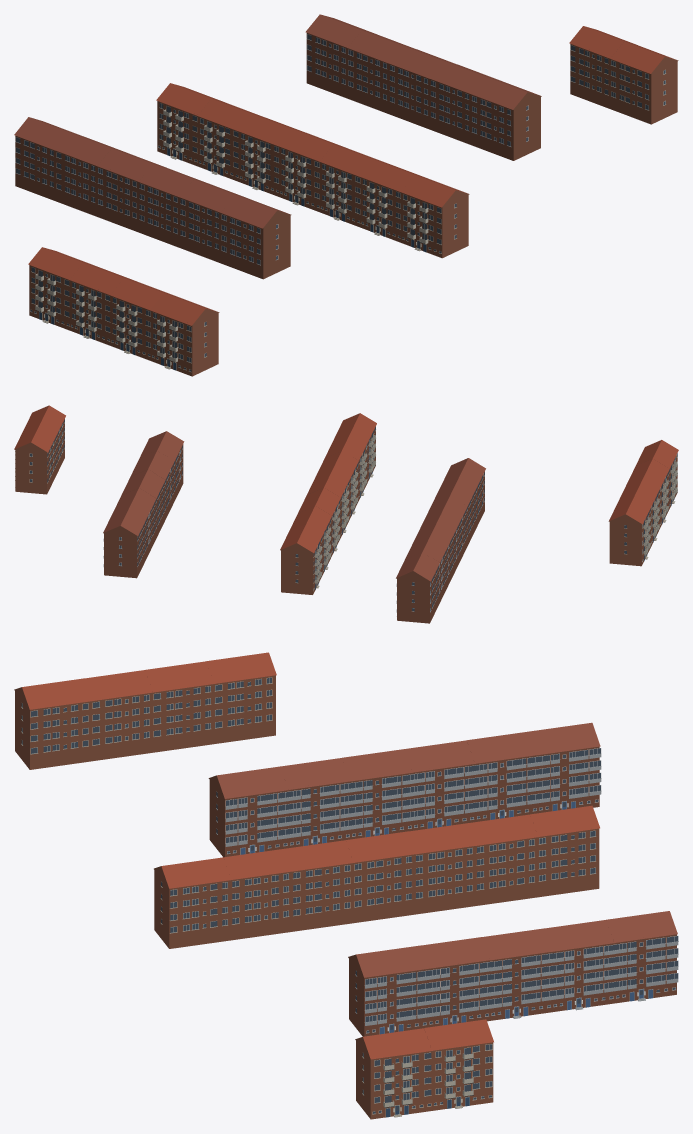
Rendered from sonderbuur-baked-1.glb.
The picture shows the model from 3 angles, top to bottom: view 1: azimuth 30°, elevation 25°; view 2: azimuth 150°, elevation 25°; view 3: azimuth 270°, elevation 25°; orthographic projection. The views are drawn at different scales.
Visible parts, largest first — view 1: nw-portiek-brick-pitched-0363100012086137, nw-portiek-brick-pitched-0363100012063732, nw-portiek-brick-pitched-0363100012070899, nw-portiek-brick-pitched-0363100012127297, nw-portiek-brick-pitched-0363100012082757, nw-portiek-brick-pitched-0363100012145200, nw-portiek-brick-pitched-0363100012063448, nw-portiek-brick-pitched-0363100012144762, nw-portiek-brick-pitched-0363100012073058, nw-portiek-brick-pitched-0363100012125614, nw-portiek-brick-pitched-0363100012150871, nw-portiek-brick-pitched-0363100012126865 (+12 smaller); view 2: nw-portiek-brick-pitched-0363100012063448, nw-portiek-brick-pitched-0363100012126865, nw-portiek-brick-pitched-0363100012146294, nw-portiek-brick-pitched-0363100012098636, nw-portiek-brick-pitched-0363100012074491, nw-portiek-brick-pitched-0363100012086137, nw-portiek-brick-pitched-0363100012063732, nw-portiek-brick-pitched-0363100012145200, nw-portiek-brick-pitched-0363100012144762, nw-portiek-brick-pitched-0363100012150871, nw-portiek-brick-pitched-0363100012073058, nw-portiek-brick-pitched-0363100012125614 (+12 smaller); view 3: nw-portiek-brick-pitched-0363100012063732, nw-portiek-brick-pitched-0363100012086137, nw-portiek-brick-pitched-0363100012070899, nw-portiek-brick-pitched-0363100012127297, nw-portiek-brick-pitched-0363100012082757, nw-portiek-brick-pitched-0363100012063448, nw-portiek-brick-pitched-0363100012150871, nw-portiek-brick-pitched-0363100012151348, nw-portiek-brick-pitched-0363100012145200, nw-portiek-brick-pitched-0363100012144762, nw-portiek-brick-pitched-0363100012075965, nw-portiek-brick-pitched-0363100012126028 (+12 smaller).
Part boxes in pixels (x1,y1,x2,y2): nw-portiek-brick-pitched-0363100012086137: (471,76,541,160); nw-portiek-brick-pitched-0363100012063732: (221,194,291,279); nw-portiek-brick-pitched-0363100012070899: (150,293,219,376); nw-portiek-brick-pitched-0363100012127297: (401,175,469,258); nw-portiek-brick-pitched-0363100012082757: (610,41,678,124); nw-portiek-brick-pitched-0363100012145200: (55,132,124,216); nw-portiek-brick-pitched-0363100012063448: (305,14,375,98); nw-portiek-brick-pitched-0363100012144762: (429,61,498,145); nw-portiek-brick-pitched-0363100012073058: (97,148,166,232); nw-portiek-brick-pitched-0363100012125614: (179,179,247,263); nw-portiek-brick-pitched-0363100012150871: (388,45,455,129); nw-portiek-brick-pitched-0363100012126865: (14,117,80,201); nw-portiek-brick-pitched-0363100012063448: (103,506,147,578); nw-portiek-brick-pitched-0363100012126865: (396,552,439,623); nw-portiek-brick-pitched-0363100012146294: (608,495,651,566); nw-portiek-brick-pitched-0363100012098636: (280,524,322,594); nw-portiek-brick-pitched-0363100012074491: (14,424,56,494); nw-portiek-brick-pitched-0363100012086137: (140,431,184,502); nw-portiek-brick-pitched-0363100012063732: (442,458,485,529); nw-portiek-brick-pitched-0363100012145200: (405,533,448,604); nw-portiek-brick-pitched-0363100012144762: (130,450,174,521); nw-portiek-brick-pitched-0363100012150871: (121,469,165,539); nw-portiek-brick-pitched-0363100012073058: (414,514,458,584); nw-portiek-brick-pitched-0363100012125614: (432,477,476,547); nw-portiek-brick-pitched-0363100012063732: (208,766,289,857); nw-portiek-brick-pitched-0363100012086137: (348,945,429,1036); nw-portiek-brick-pitched-0363100012070899: (14,678,92,769); nw-portiek-brick-pitched-0363100012127297: (154,857,231,948); nw-portiek-brick-pitched-0363100012082757: (355,1028,432,1119); nw-portiek-brick-pitched-0363100012063448: (606,911,678,1003); nw-portiek-brick-pitched-0363100012150871: (483,928,553,1020); nw-portiek-brick-pitched-0363100012151348: (545,920,615,1012); nw-portiek-brick-pitched-0363100012145200: (467,731,539,821); nw-portiek-brick-pitched-0363100012144762: (421,937,491,1027); nw-portiek-brick-pitched-0363100012075965: (469,814,538,905); nw-portiek-brick-pitched-0363100012126028: (346,831,415,922).
Bounding box in the file's own units: 208 × 17.81 × 144.
